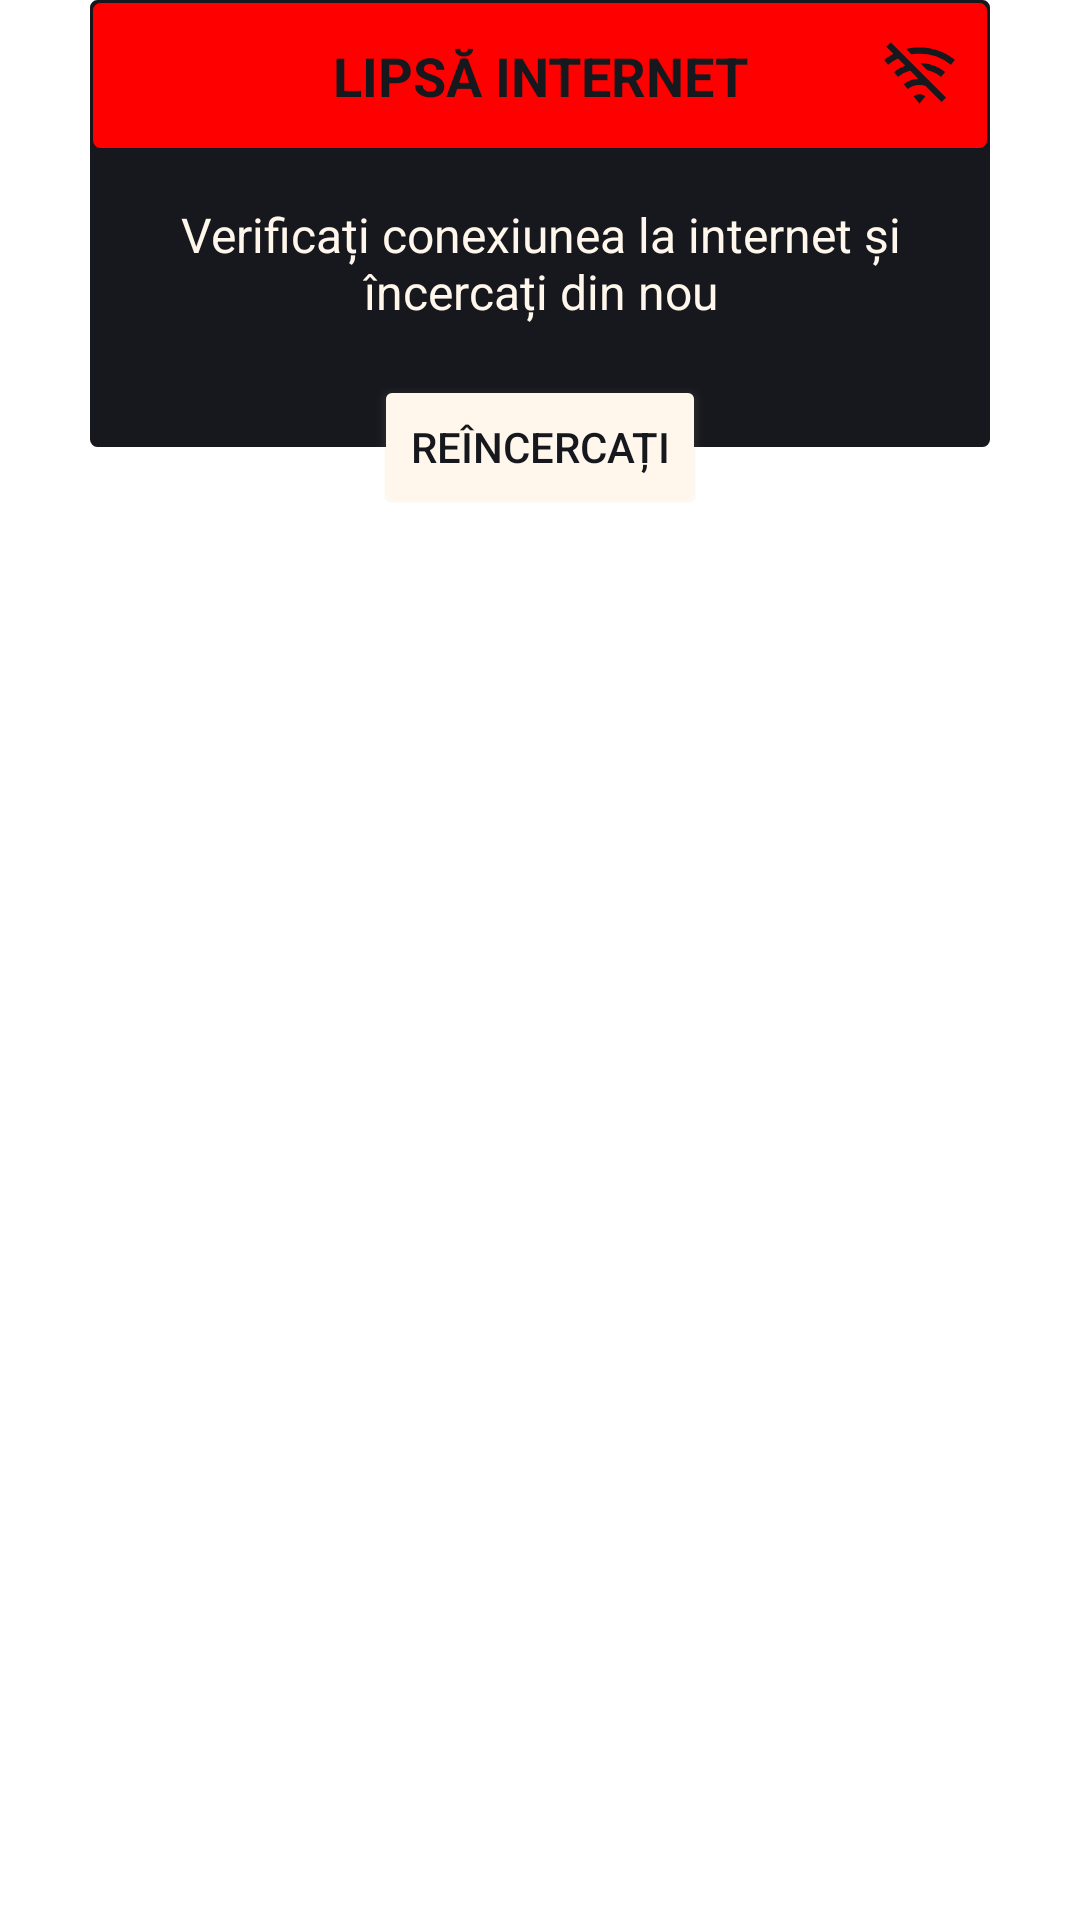

Where icons sit on this 1080*1920 app screen, as BBox(x1, y1, x2, y2):
no connection: BBox(884, 42, 955, 104)
